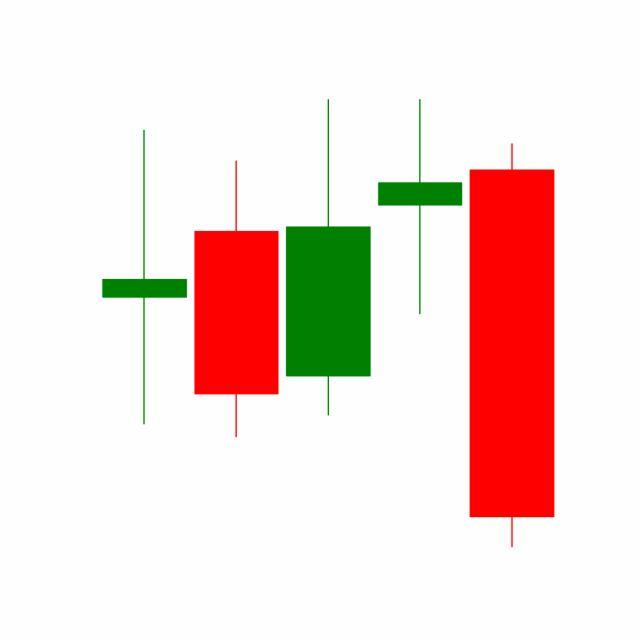Evening Doji Star: (280, 99, 555, 549)
